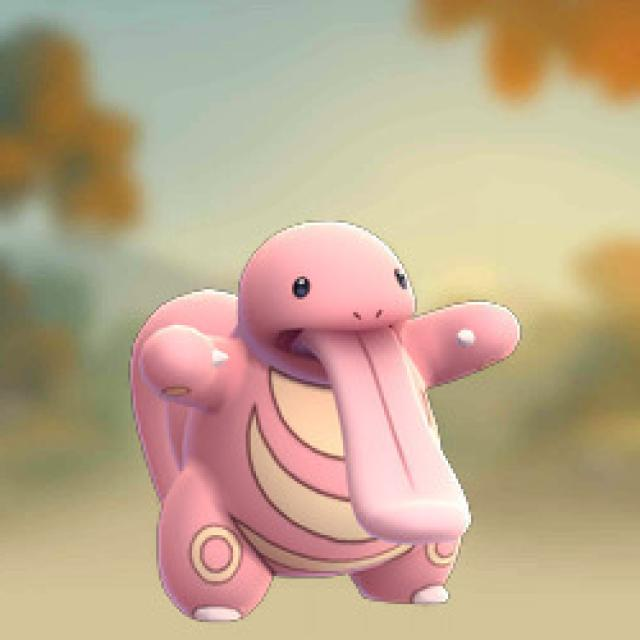Lickitung: (130, 218, 513, 624)
